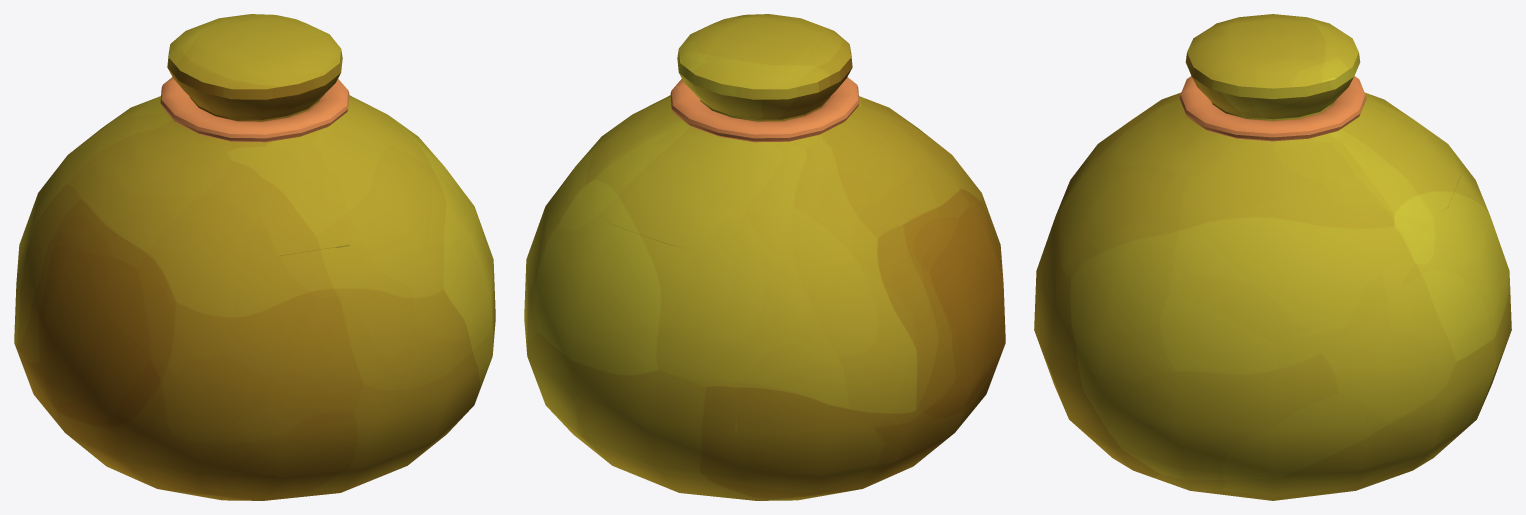
The model's file is cuval.fbx.
3 renders of one model, left to right at view 1: azimuth 30°, elevation 25°; view 2: azimuth 150°, elevation 25°; view 3: azimuth 270°, elevation 25°, orthographic.
Visible parts, largest first — view 1: Cube.024; view 2: Cube.024; view 3: Cube.024.
Boxes of the visible parts, x1,y1,x2,y2 form: Cube.024: (14, 14, 495, 500); Cube.024: (524, 14, 1005, 500); Cube.024: (1034, 14, 1511, 500).
Size of the model in its own units: 120 by 118 by 120.
1 material, 1 textured.
